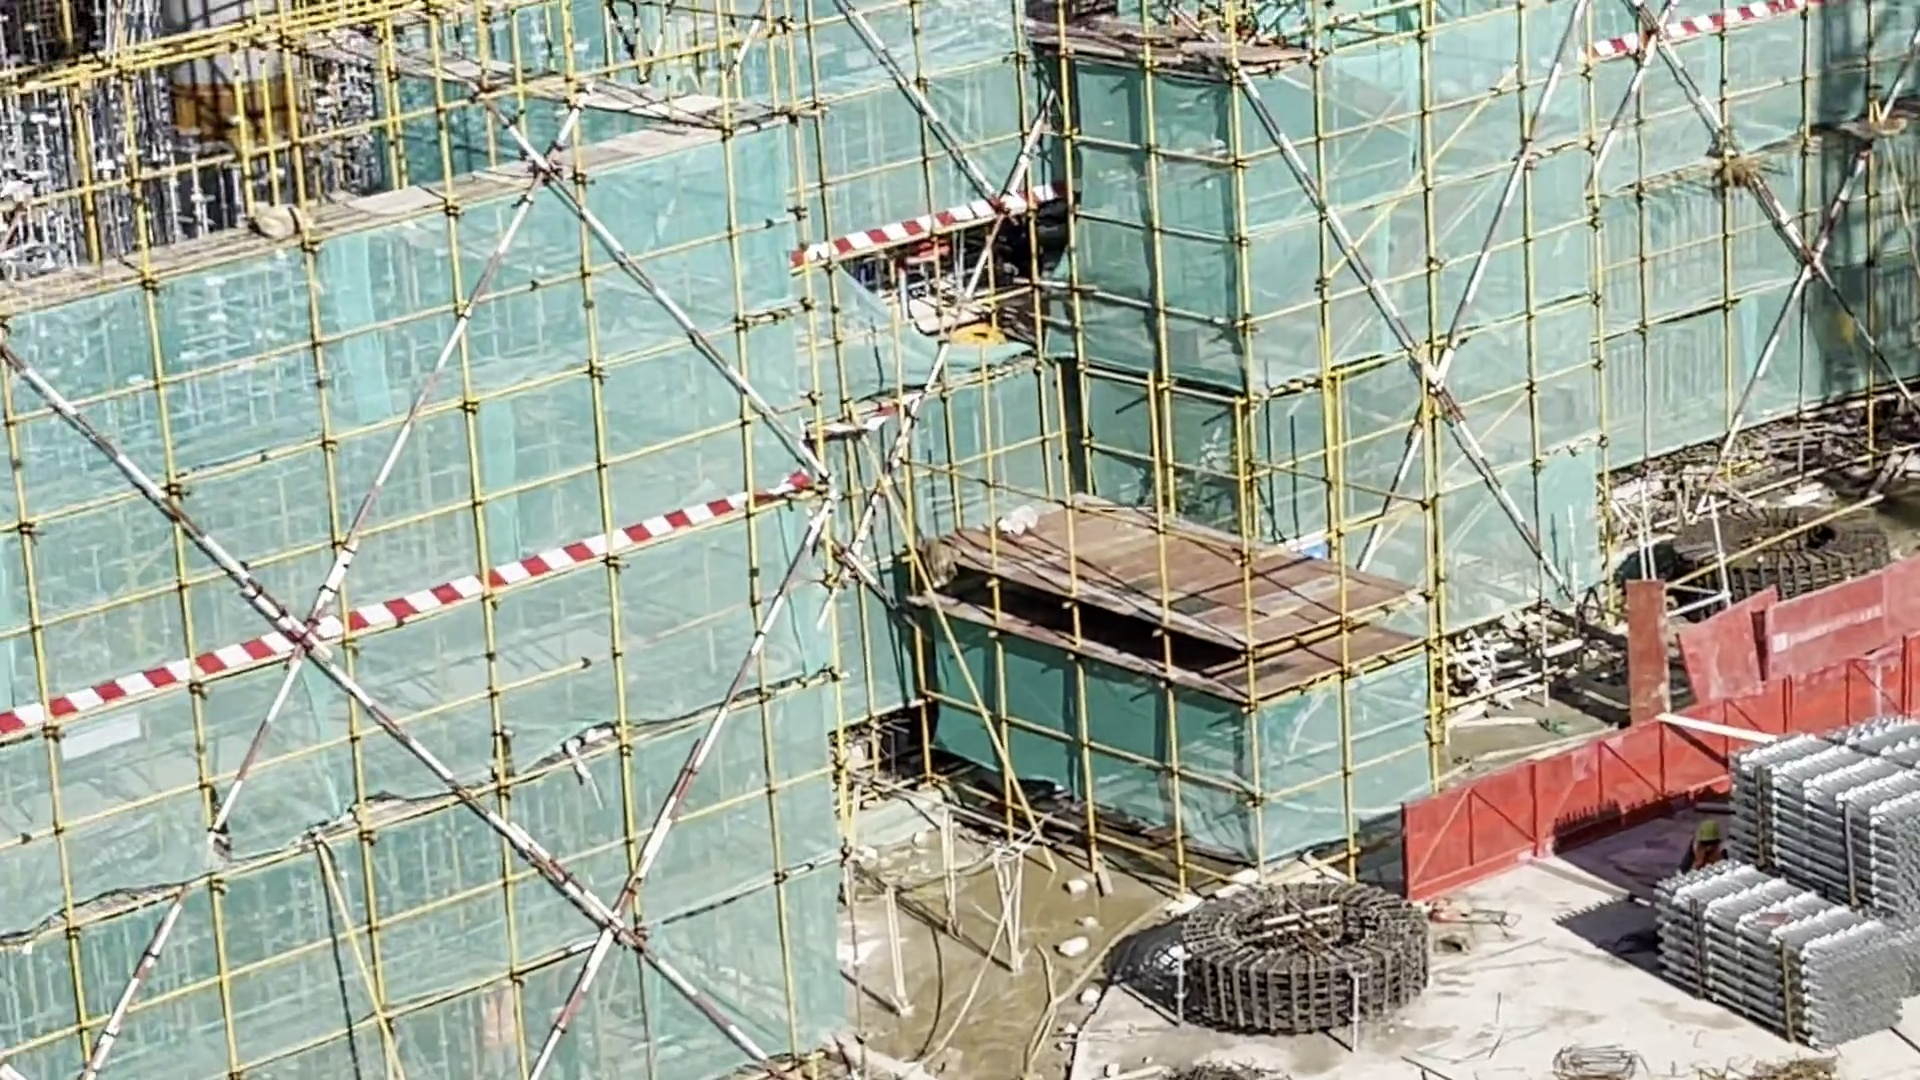fence: (1403, 633, 1920, 895)
scaffold: (1647, 725, 1920, 1044)
